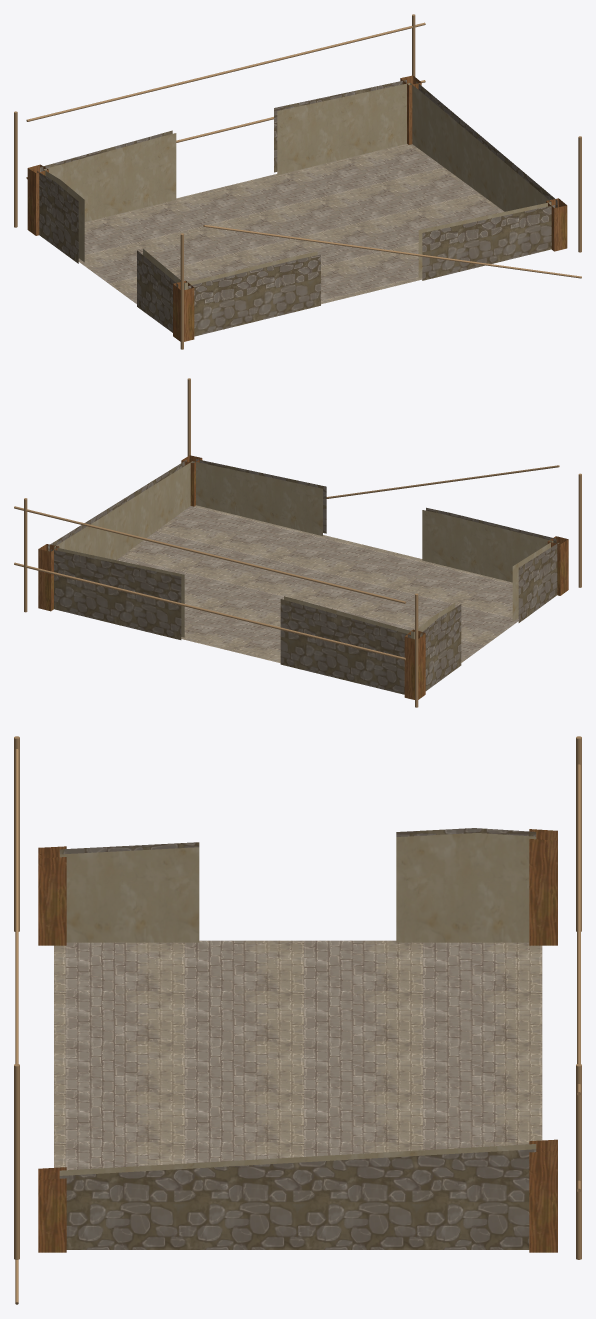
The model's file is Building5Whole_P2.glb.
3 views of the same model, one above another, from view 1: azimuth 30°, elevation 25°; view 2: azimuth 150°, elevation 25°; view 3: azimuth 270°, elevation 25° (orthographic). The views are drawn at different scales.
Visible parts, largest first — view 1: Building5Whole_P2; view 2: Building5Whole_P2; view 3: Building5Whole_P2.
Part boxes in pixels (x1,y1,x2,y2): Building5Whole_P2: (14,14,581,349); Building5Whole_P2: (14,378,581,707); Building5Whole_P2: (14,736,581,1304).
Bounding box in the file's own units: 13.43 × 4.55 × 9.53.
Materials: 5 (4 with a texture image).
